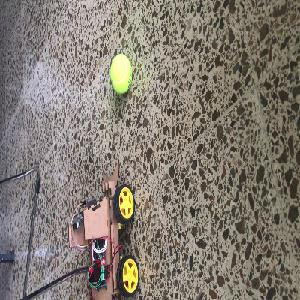Ball: (110, 54, 132, 94)
Robot: (68, 158, 140, 298)
